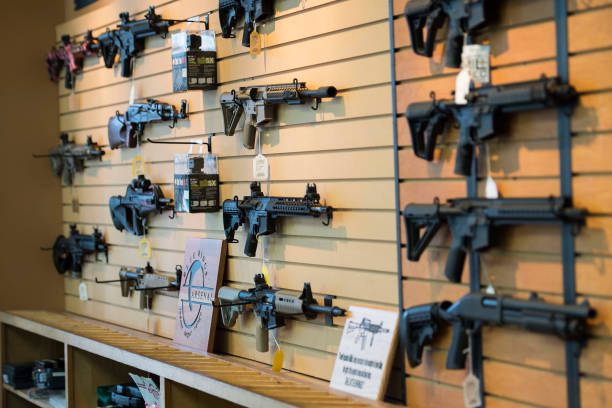rifle: (395, 283, 598, 393), (399, 188, 597, 288), (400, 74, 586, 168), (214, 271, 356, 358), (219, 181, 355, 260), (219, 77, 345, 150), (95, 4, 179, 75), (105, 173, 182, 238), (107, 96, 198, 151)
